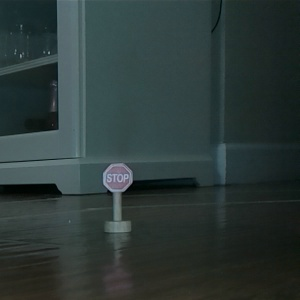stop sign: (100, 161, 134, 237)
